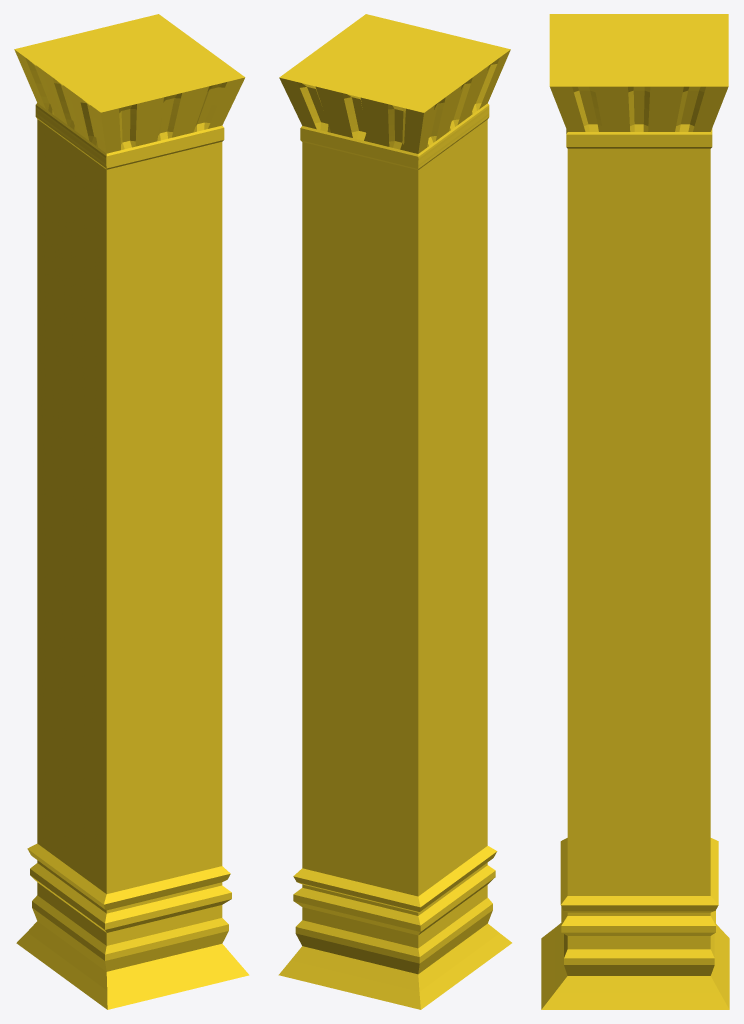
The model's file is tabernacleColumn.fbx.
3 views of the same model, side by side, from view 1: azimuth 30°, elevation 25°; view 2: azimuth 150°, elevation 25°; view 3: azimuth 270°, elevation 25° (orthographic). The views are drawn at different scales.
Parts seen in each view (by area): view 1: Cube; view 2: Cube; view 3: Cube.
Boxes of the visible parts, x1,y1,x2,y2 form: Cube: [14, 14, 249, 1009]; Cube: [278, 14, 511, 1009]; Cube: [541, 14, 729, 1009].
Bounding box in the file's own units: 82.27 × 486 × 89.96.
